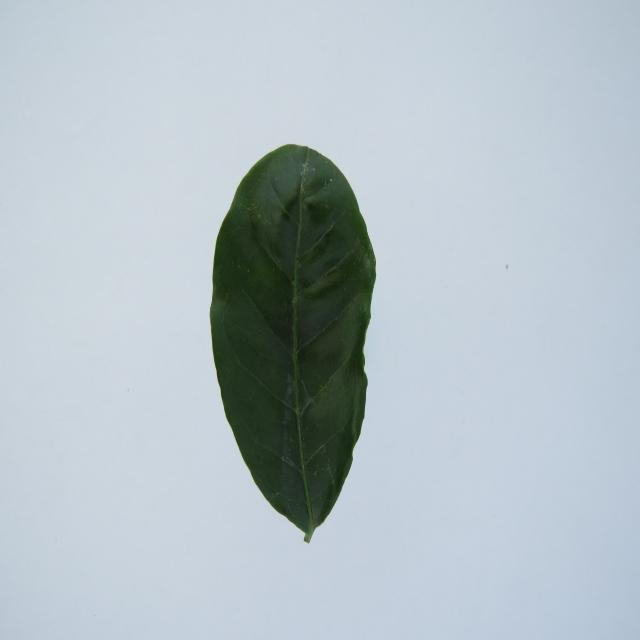DeficienciaNutricional-Boro: (210, 145, 376, 542)
